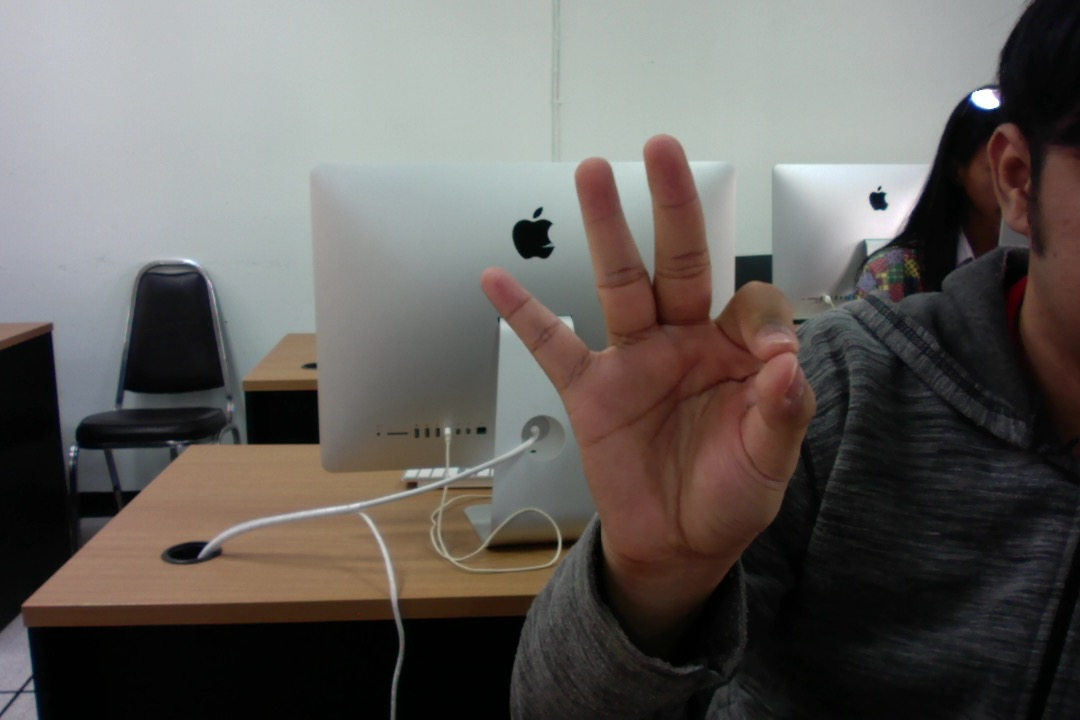for: (447, 112, 838, 629)
